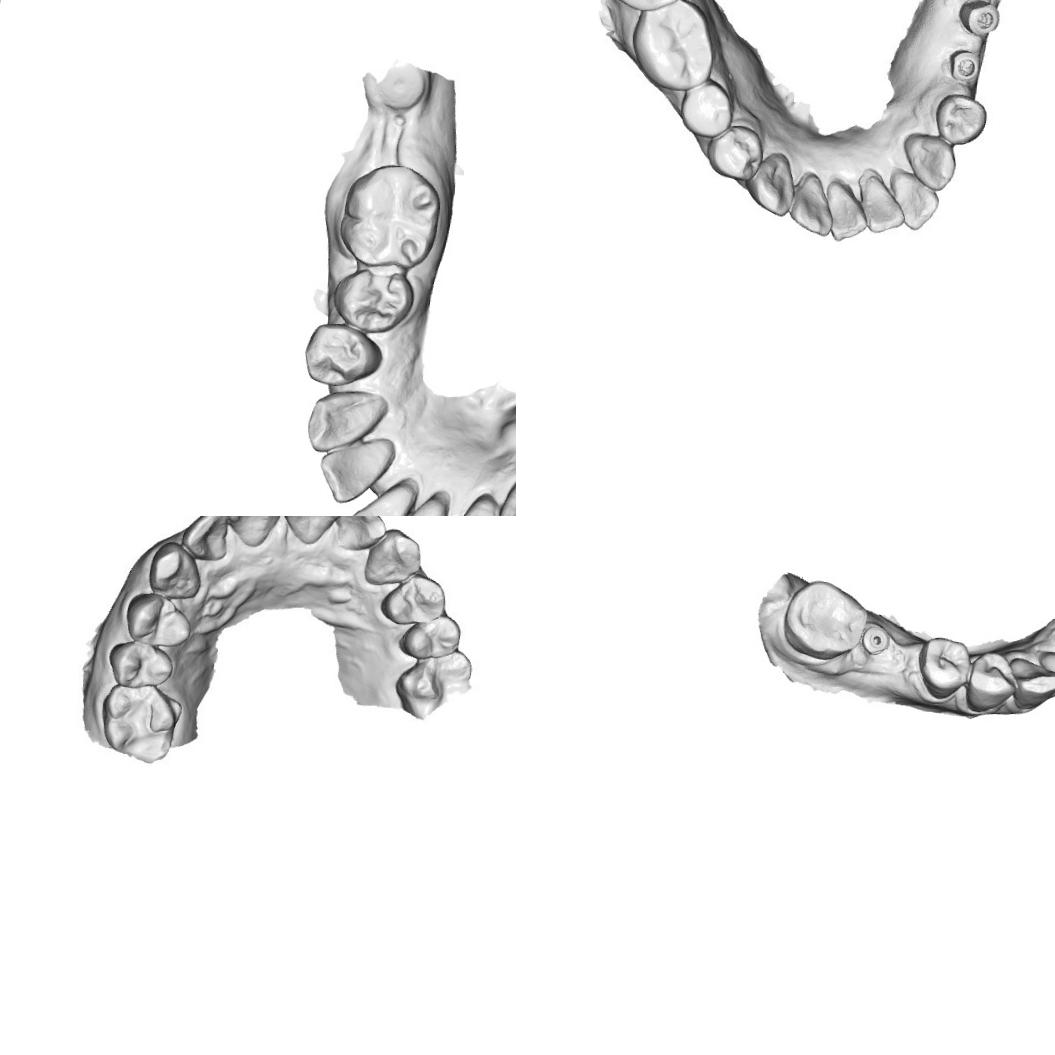canine: (301, 386, 389, 456), (360, 526, 424, 588), (144, 537, 204, 600), (899, 128, 958, 192), (744, 152, 798, 218), (1005, 655, 1055, 711)
implant: (953, 0, 1003, 42), (944, 47, 987, 87), (858, 622, 891, 656)
incisor: (318, 442, 389, 506), (784, 173, 834, 239), (888, 170, 941, 232), (857, 174, 905, 238), (824, 182, 870, 244), (278, 516, 350, 551), (180, 516, 232, 562), (332, 516, 391, 554), (221, 516, 287, 548), (338, 489, 405, 516), (378, 498, 443, 516), (442, 498, 502, 516), (1036, 648, 1055, 692)
molar: (334, 159, 442, 270), (780, 576, 870, 662), (630, 2, 712, 94), (94, 680, 180, 764), (392, 650, 477, 722)
premolar: (328, 264, 418, 336), (298, 320, 384, 390), (378, 569, 453, 628), (122, 591, 194, 648), (914, 635, 972, 701), (963, 649, 1020, 714), (104, 637, 174, 689), (680, 76, 735, 140), (931, 90, 990, 148), (396, 615, 464, 662), (707, 128, 761, 178)
